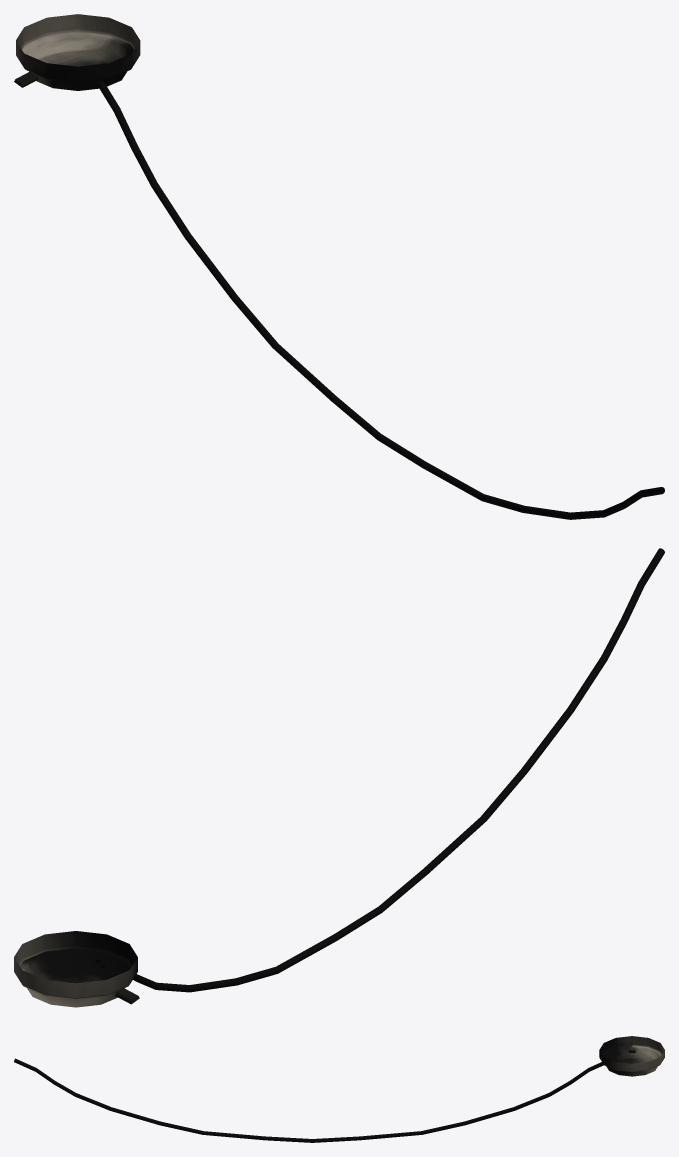
File: BurntHangingWire.fbx
3 views of the same model, one above another, from view 1: azimuth 30°, elevation 25°; view 2: azimuth 150°, elevation 25°; view 3: azimuth 270°, elevation 25° (orthographic). The views are drawn at different scales.
Visible parts, largest first — view 1: BurntHangingWire_Base, BurntHangingWire_Cord; view 2: BurntHangingWire_Base, BurntHangingWire_Cord; view 3: BurntHangingWire_Cord, BurntHangingWire_Base.
Boxes of the visible parts, x1,y1,x2,y2 form: BurntHangingWire_Base: (16,14,140,90); BurntHangingWire_Cord: (97,81,664,519); BurntHangingWire_Base: (14,931,137,1007); BurntHangingWire_Cord: (95,548,664,992); BurntHangingWire_Cord: (14,1058,610,1142); BurntHangingWire_Base: (599,1036,664,1076).
Bounding box in the file's own units: 47.54 × 70.33 × 444.
